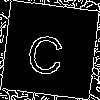C: (25, 25, 67, 76)
